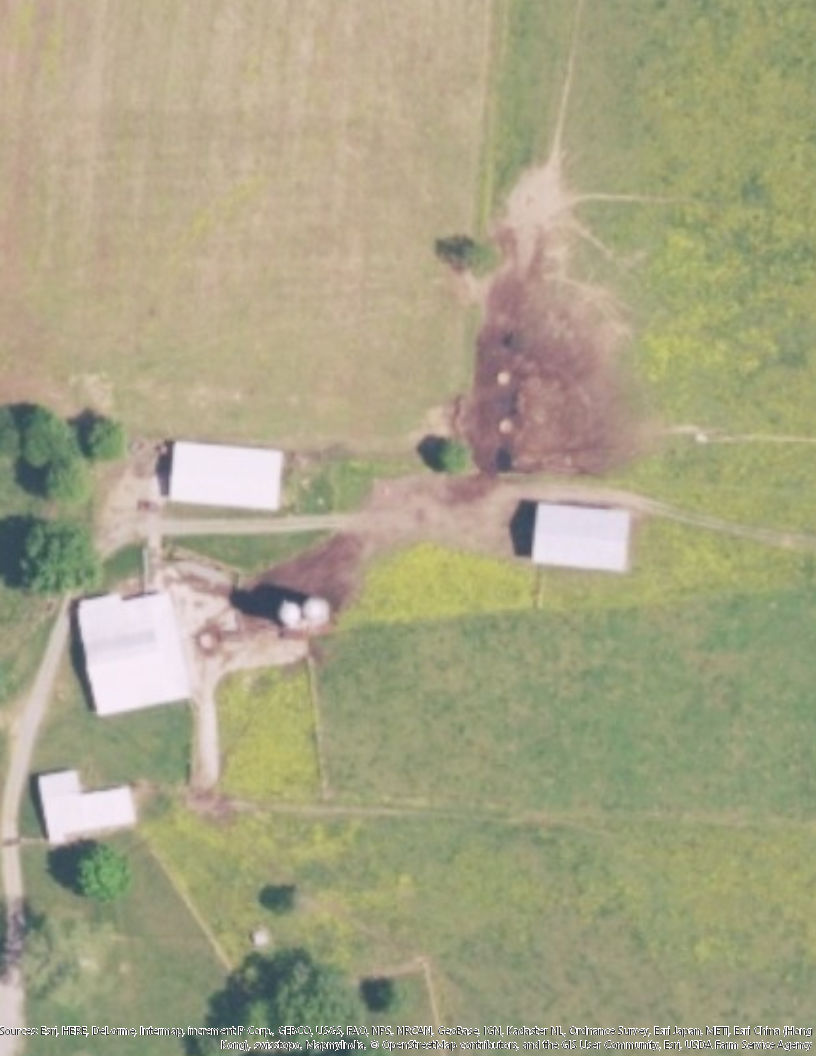cafo: (75, 587, 196, 719), (166, 437, 289, 511), (530, 500, 630, 571)
